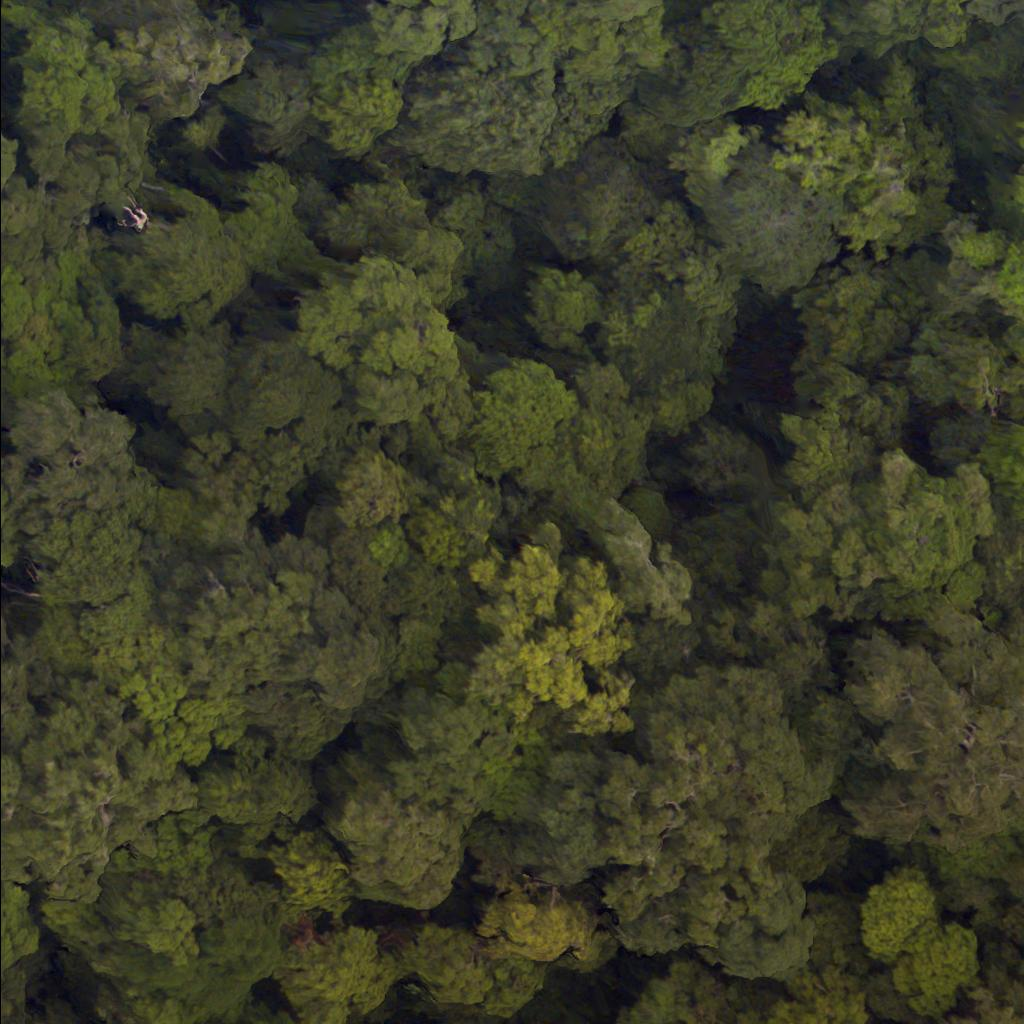crown: (513, 658, 812, 952), (0, 674, 203, 905), (832, 607, 1023, 844), (464, 520, 638, 735), (0, 385, 143, 523), (330, 774, 466, 906), (466, 349, 585, 499), (388, 686, 522, 819), (197, 735, 315, 860), (391, 924, 545, 1015), (477, 882, 619, 974), (278, 924, 393, 1023), (709, 873, 813, 979), (613, 956, 739, 1023), (891, 921, 979, 1015), (756, 960, 875, 1023), (267, 831, 355, 912), (806, 892, 883, 973), (199, 916, 282, 986), (127, 896, 198, 965), (946, 968, 1023, 1023), (0, 881, 40, 968), (186, 970, 250, 1020), (0, 956, 27, 1023), (239, 1009, 303, 1023), (735, 1013, 770, 1023), (14, 1017, 72, 1023)
